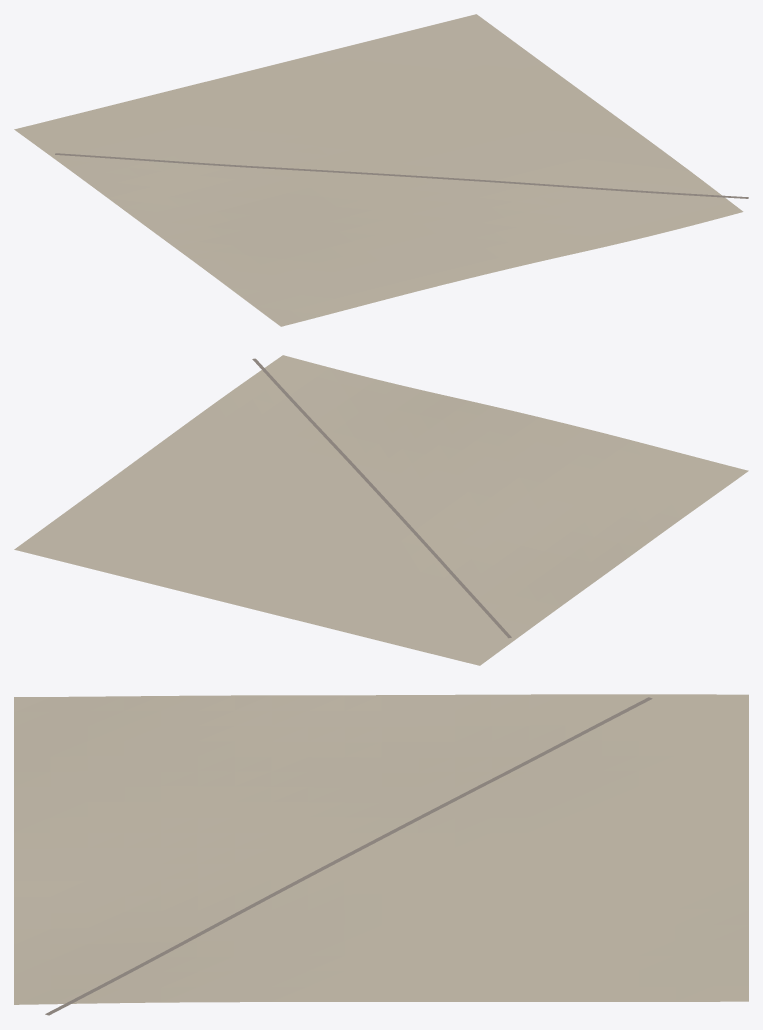
File: bolak_8_-20.glb
3 views of the same model, one above another, from view 1: azimuth 30°, elevation 25°; view 2: azimuth 150°, elevation 25°; view 3: azimuth 270°, elevation 25° (orthographic). The views are drawn at different scales.
Visible parts, largest first — view 1: Yer_Tuproq-col, Temir_Yol; view 2: Yer_Tuproq-col, Temir_Yol; view 3: Yer_Tuproq-col, Temir_Yol.
Part boxes in pixels (x1,y1,x2,y2): Yer_Tuproq-col: (14, 14, 743, 326); Temir_Yol: (55, 153, 748, 198); Yer_Tuproq-col: (14, 355, 748, 665); Temir_Yol: (252, 358, 511, 638); Yer_Tuproq-col: (14, 694, 748, 1004); Temir_Yol: (45, 697, 652, 1015).
Bounding box in the file's own units: 416 × 3.6 × 400.
